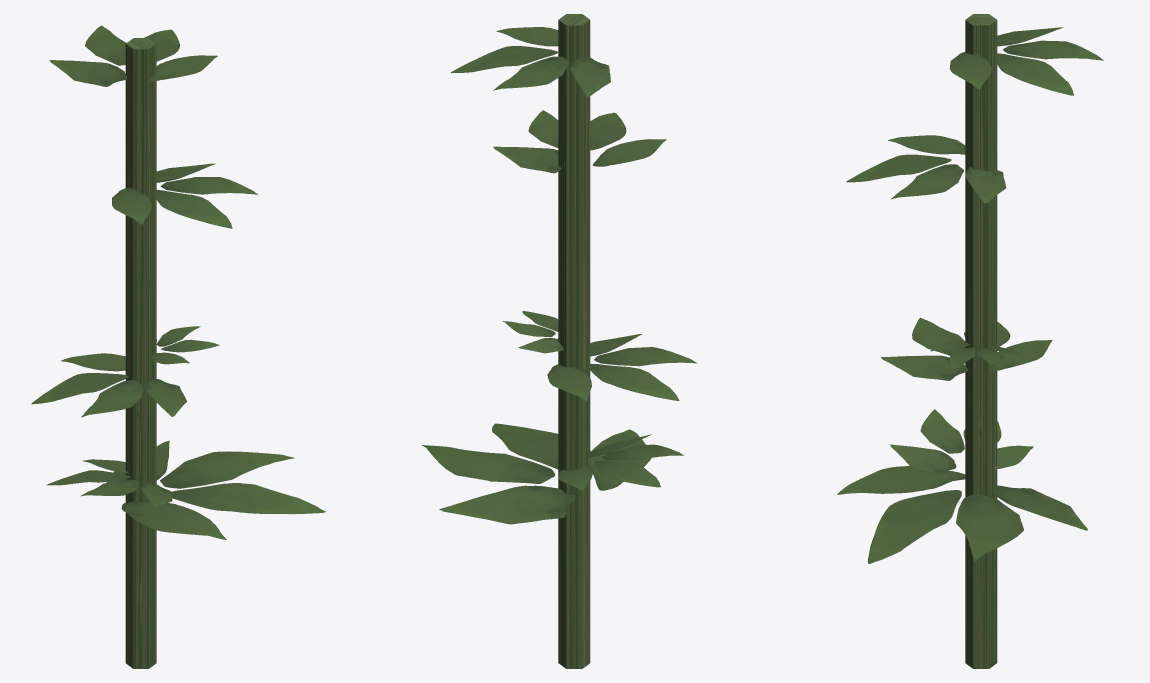
Rendered from bamboo2.fbx.
The picture shows the model from 3 angles, left to right: view 1: azimuth 30°, elevation 25°; view 2: azimuth 150°, elevation 25°; view 3: azimuth 270°, elevation 25°; orthographic projection. The views are drawn at different scales.
Visible parts, largest first — view 1: Cylinder.002; view 2: Cylinder.002; view 3: Cylinder.002.
Part boxes in pixels (<box>): Cylinder.002: <box>31,25,325,668</box>; Cylinder.002: <box>422,14,697,668</box>; Cylinder.002: <box>837,14,1103,668</box>.
Bounding box in the file's own units: 274 × 492 × 258.
